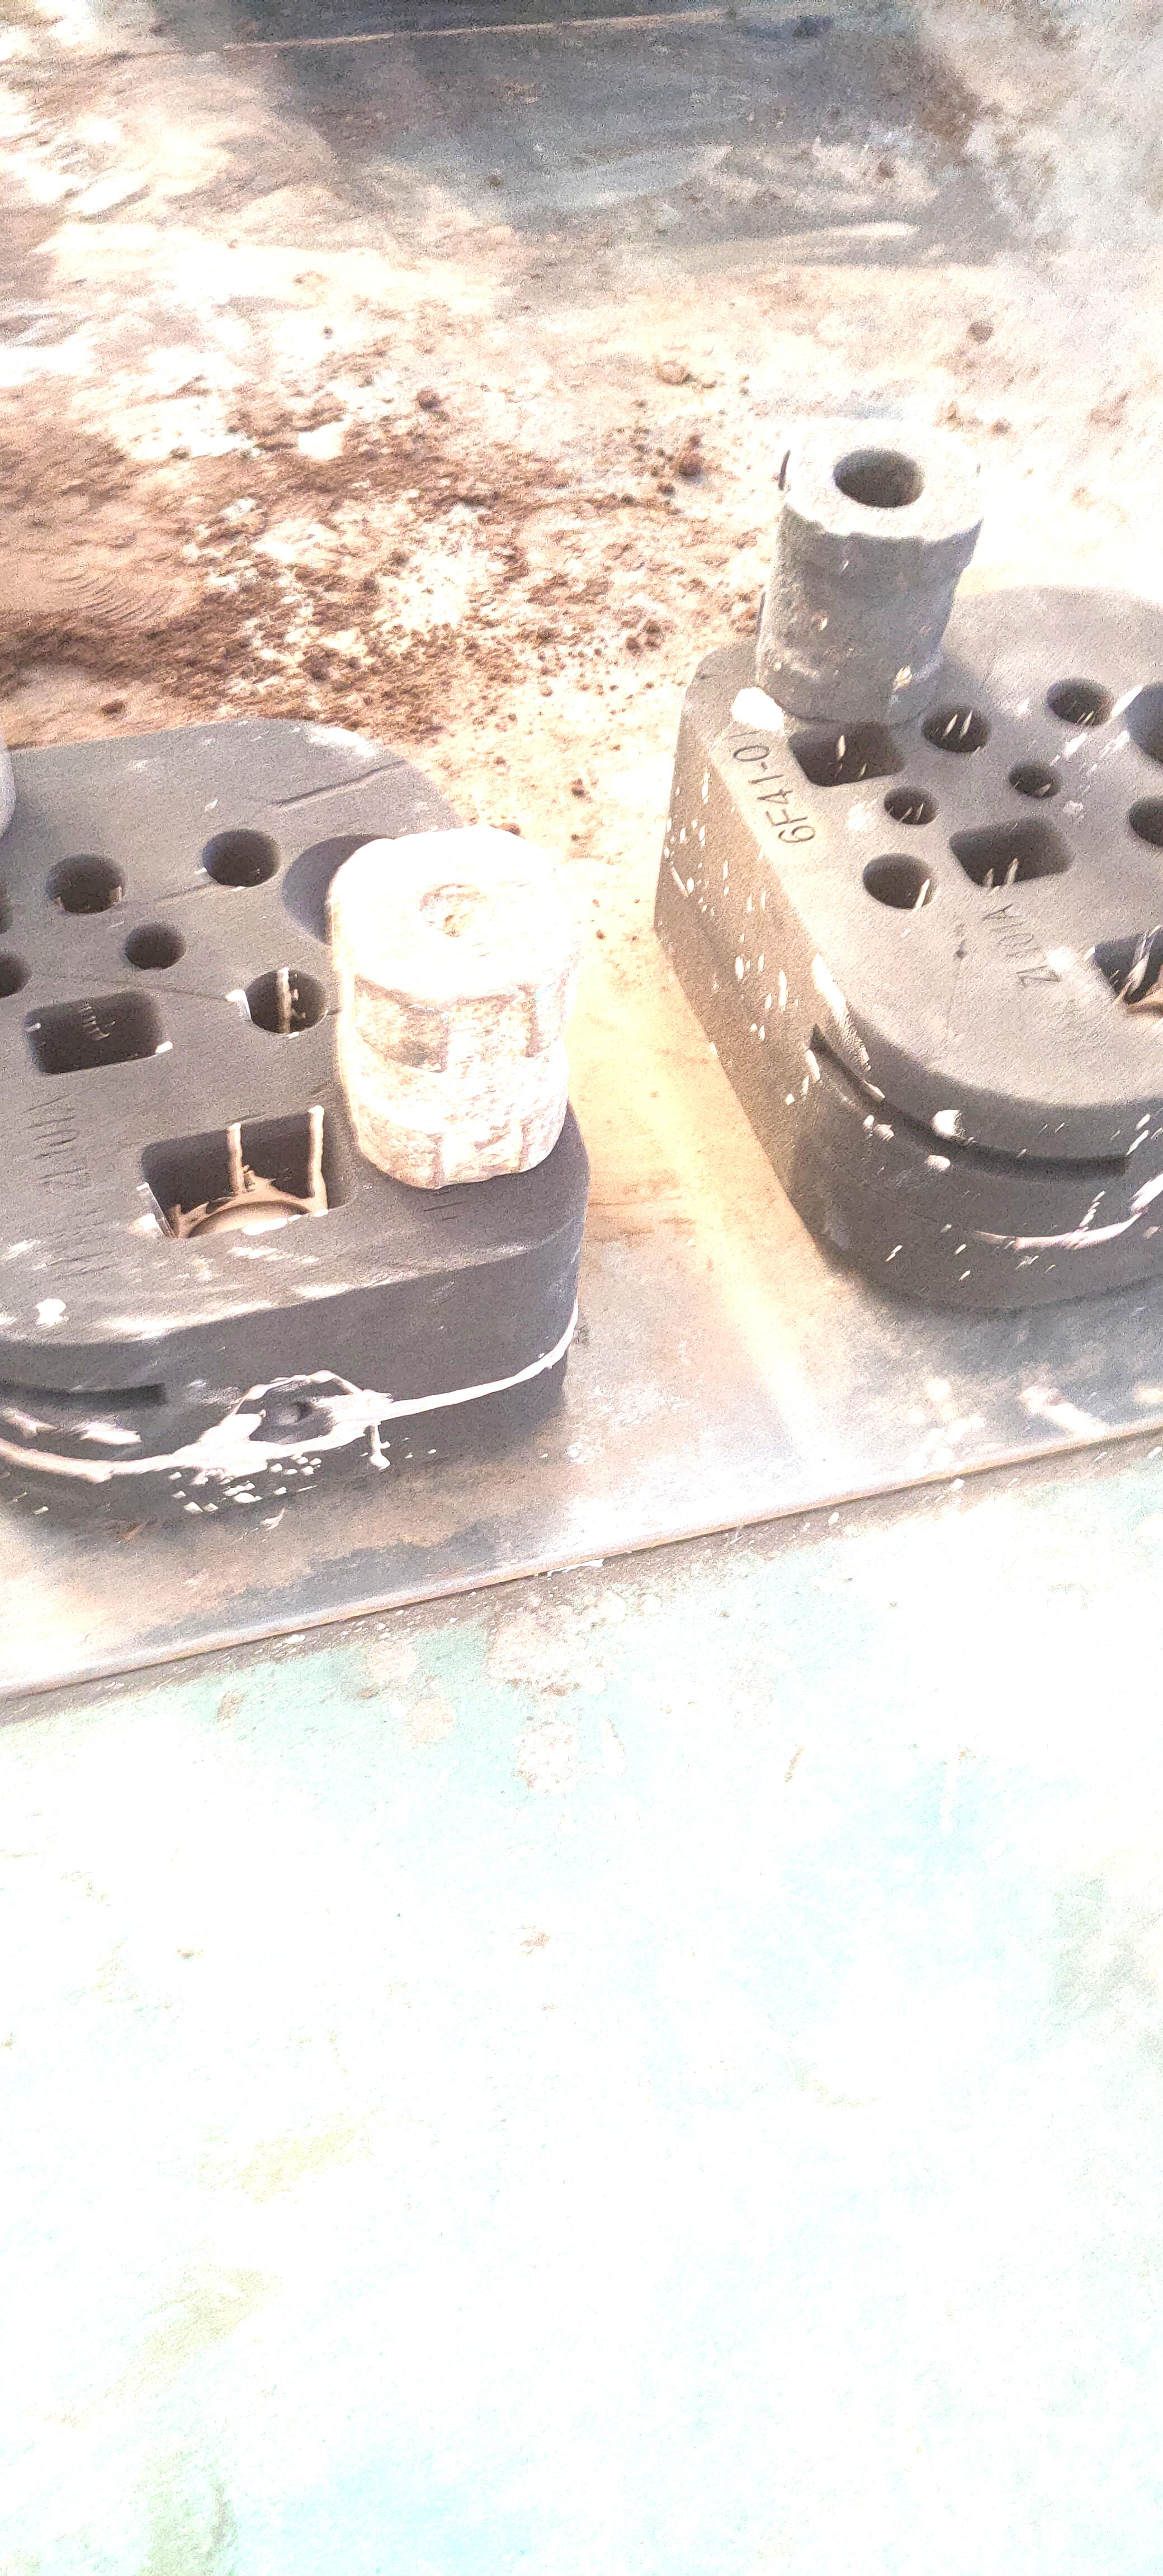pouring hole: (281, 831, 445, 950), (1124, 678, 1163, 766)
